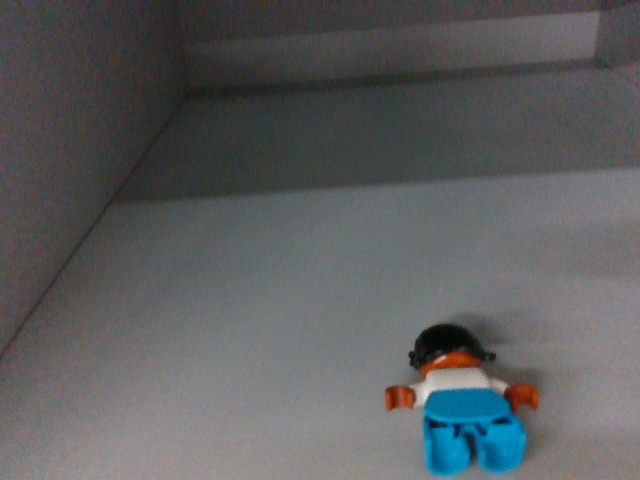people: (384, 325, 543, 478)
